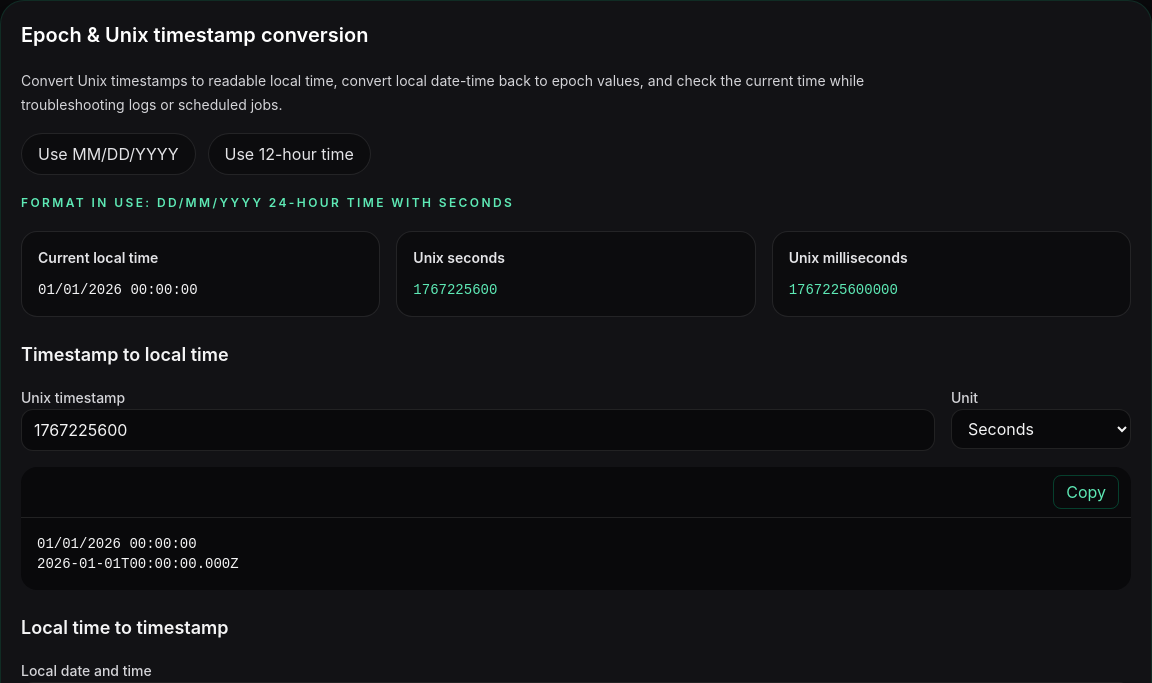
Test case: Epoch timestamp range validation › rejects out-of-range seconds value 8640000000001 and recovers
The width and height of the screenshot is (1152, 683).
Step 1. Select "Seconds" in the dropdown labelled "Unit" → (1041, 429), box [951,409,1131,449]
Step 2. Replace the text in the field labelled "Unix timestamp" with "8640000000001" → (478, 430), box [21,409,935,451]
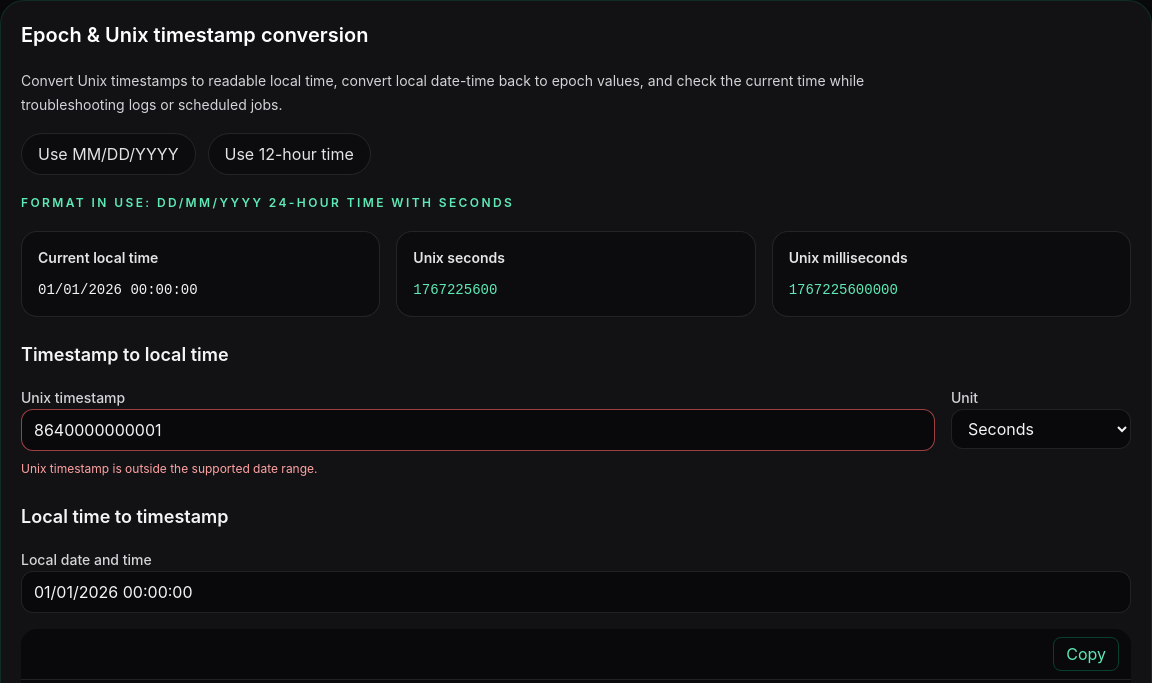
Check: the heading "Epoch & Unix timestamp conversion" is shown, box [21,23,368,47]
Check: the text "Unix timestamp is outside the supported date range." is shown, box [21,461,318,476]
Step 3. Replace the text in the field labelled "Unix timestamp" with "0" → (478, 430), box [21,409,935,451]
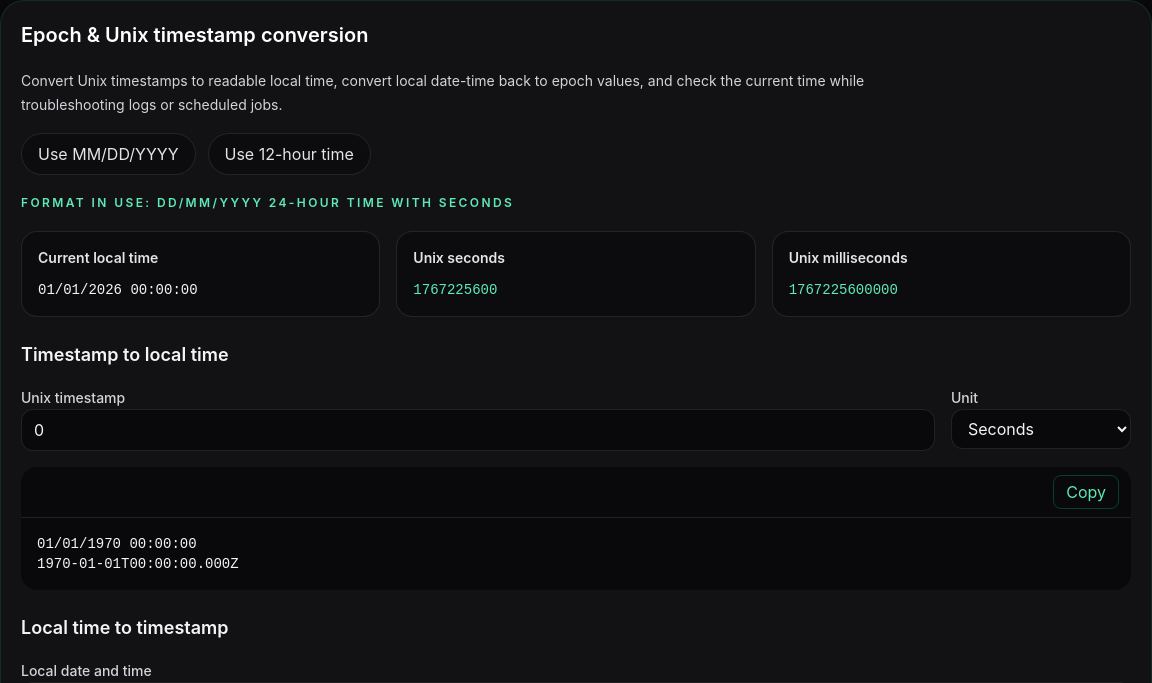
Check: the text "01/01/1970 00:00:00 1970-01-01T00:00:00.000Z" is shown, box [37,536,239,572]
